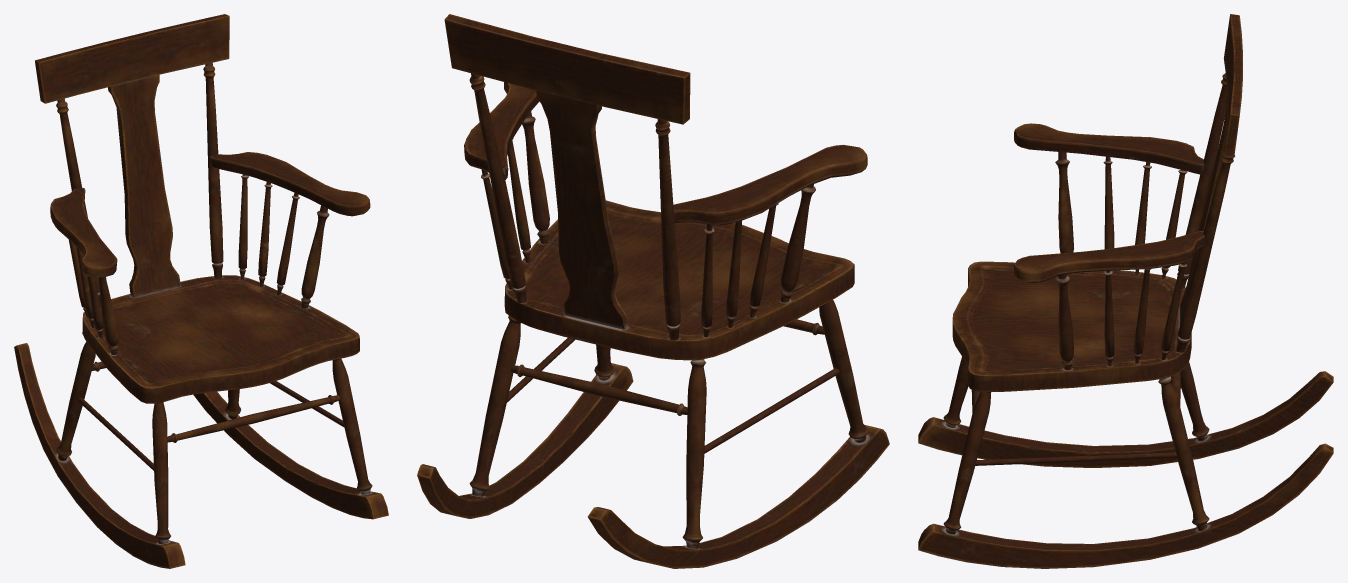
Rendered from Rockingchair_01.glb.
3 renders of one model, left to right at view 1: azimuth 30°, elevation 25°; view 2: azimuth 150°, elevation 25°; view 3: azimuth 270°, elevation 25°, orthographic. The views are drawn at different scales.
Parts seen in each view (by area): view 1: Rockingchair_01; view 2: Rockingchair_01; view 3: Rockingchair_01.
Part boxes in pixels (box(x1,y1,x2,y2)): Rockingchair_01: box(14, 14, 388, 568); Rockingchair_01: box(417, 14, 889, 568); Rockingchair_01: box(918, 14, 1333, 568).
Size of the model in its own units: 0.7081 by 0.9949 by 0.8335.
Materials: 1 (1 with a texture image).
